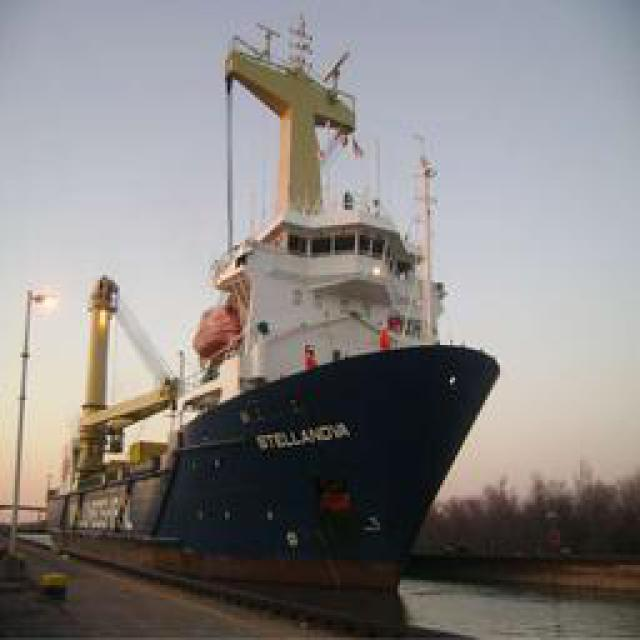Ship: (158, 34, 493, 587)
